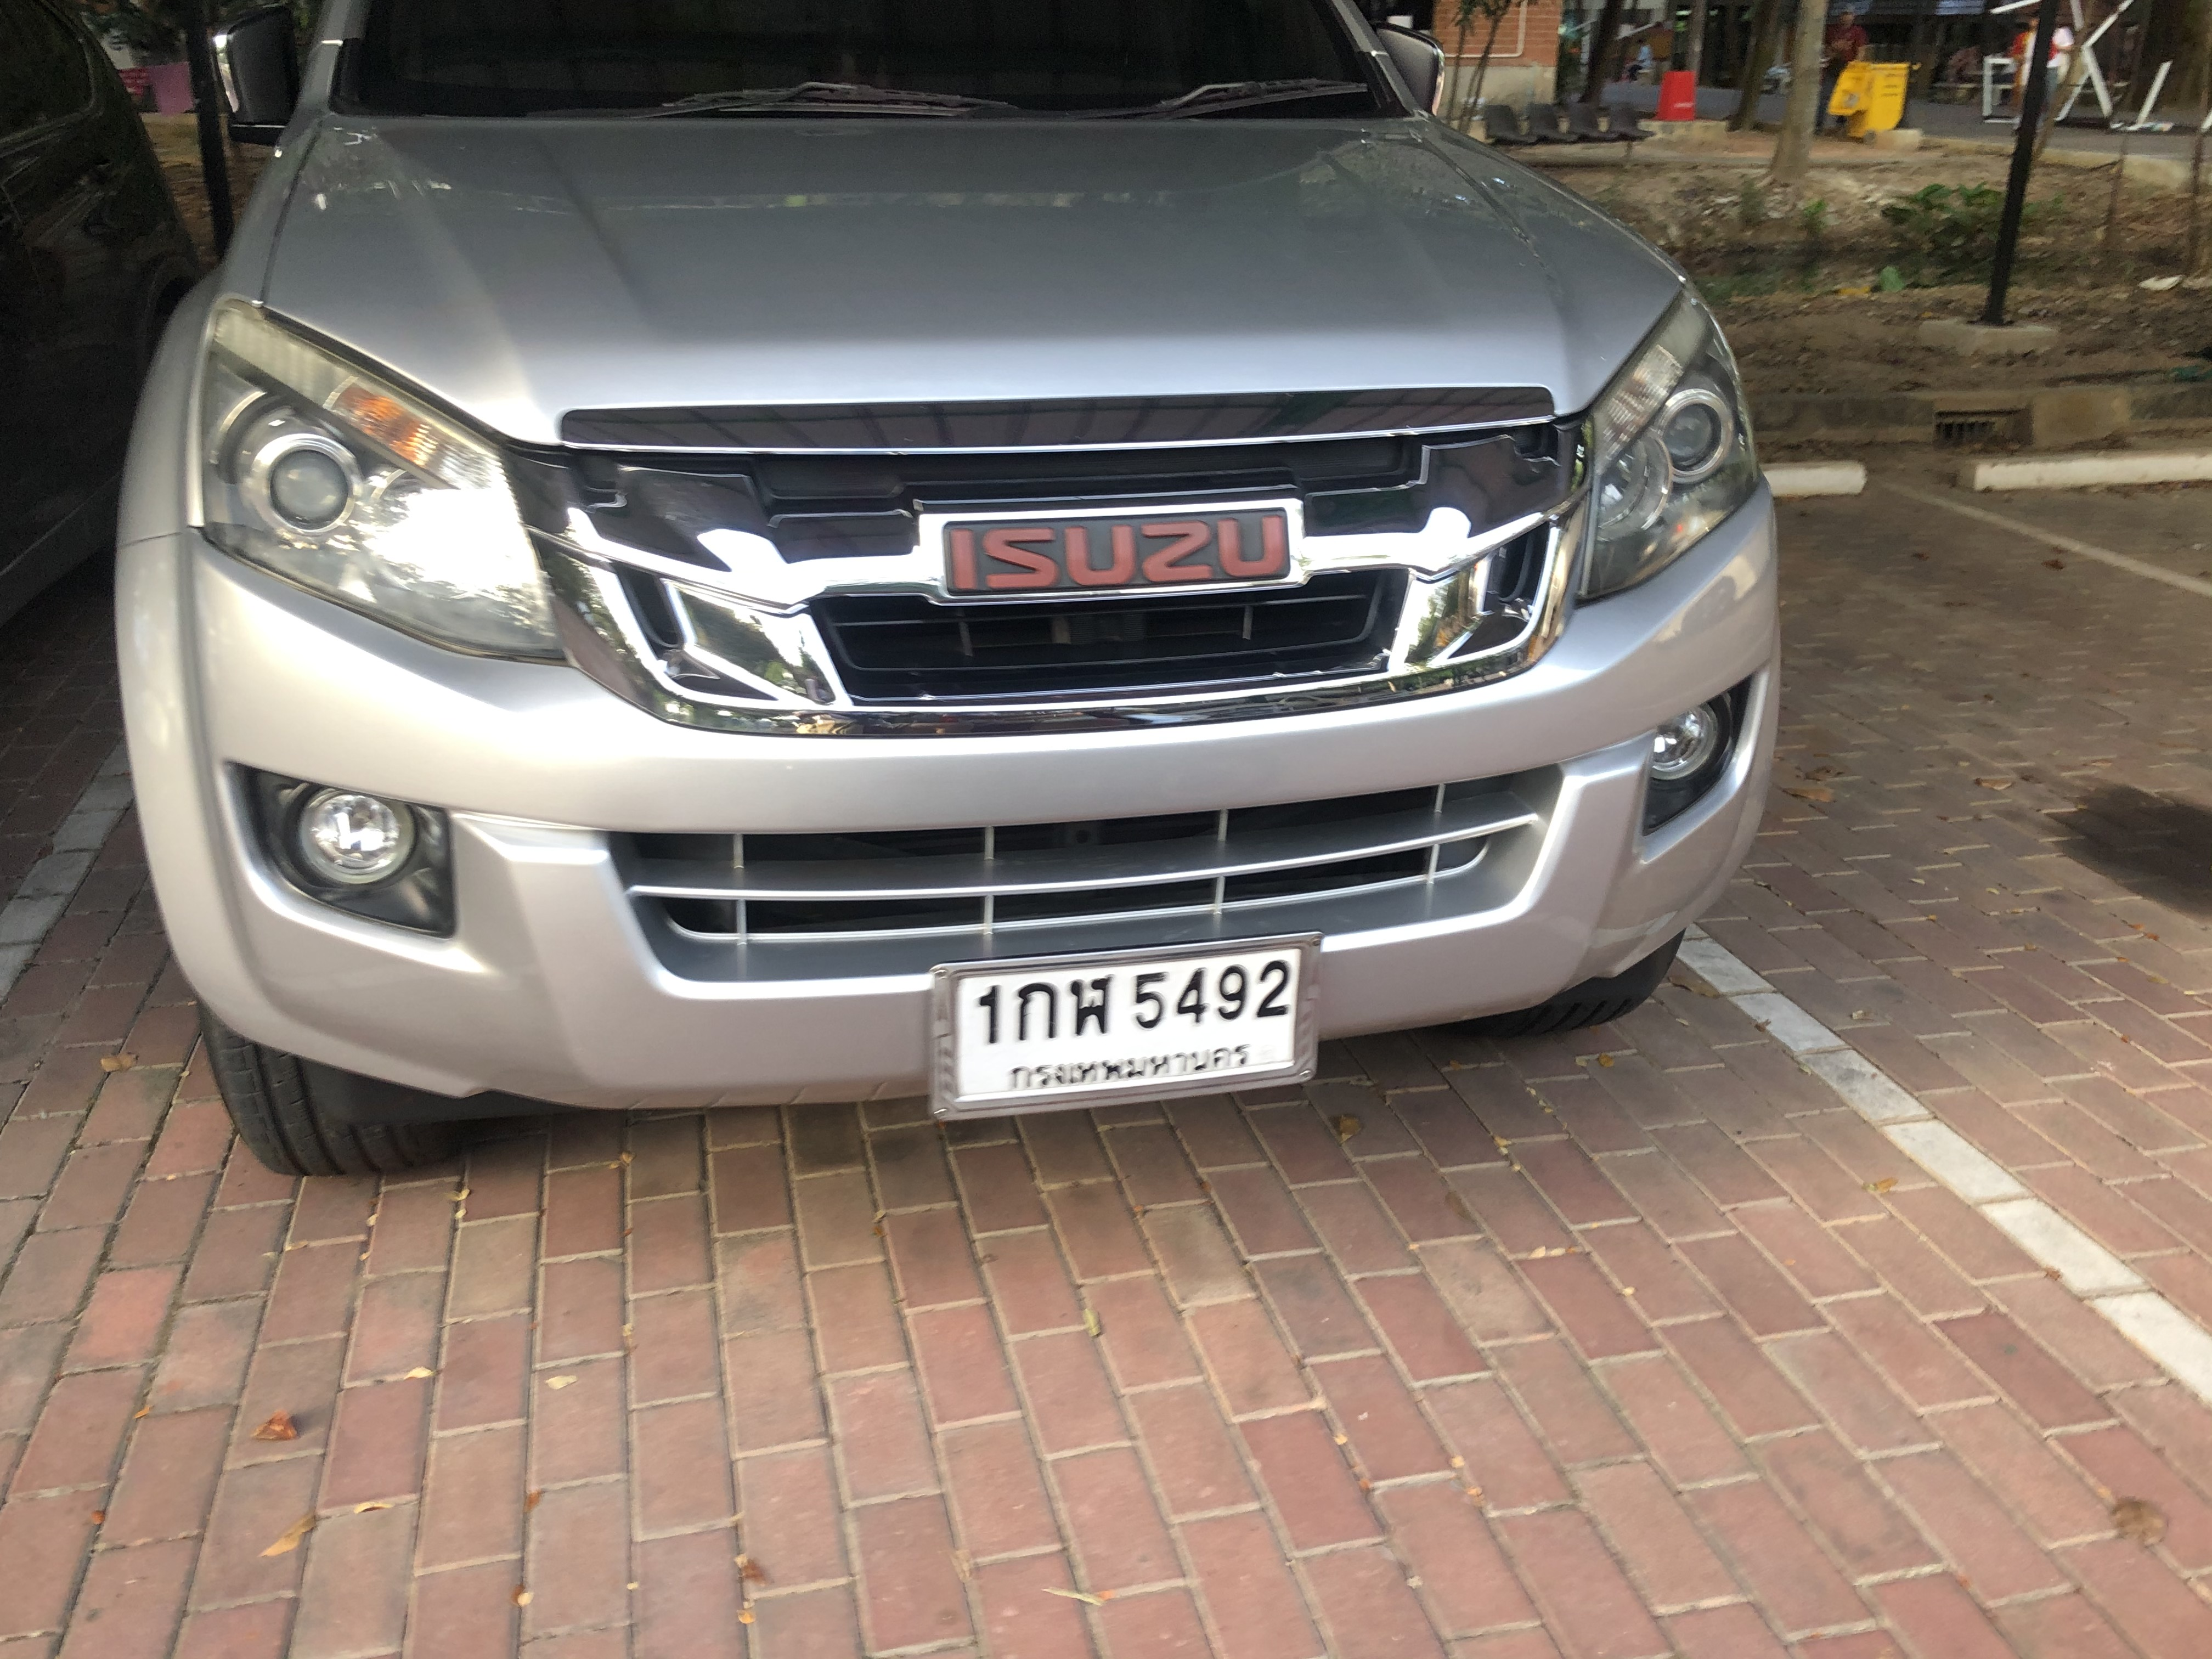in: (958, 946, 1298, 1098)
out: (927, 929, 1325, 1131)
